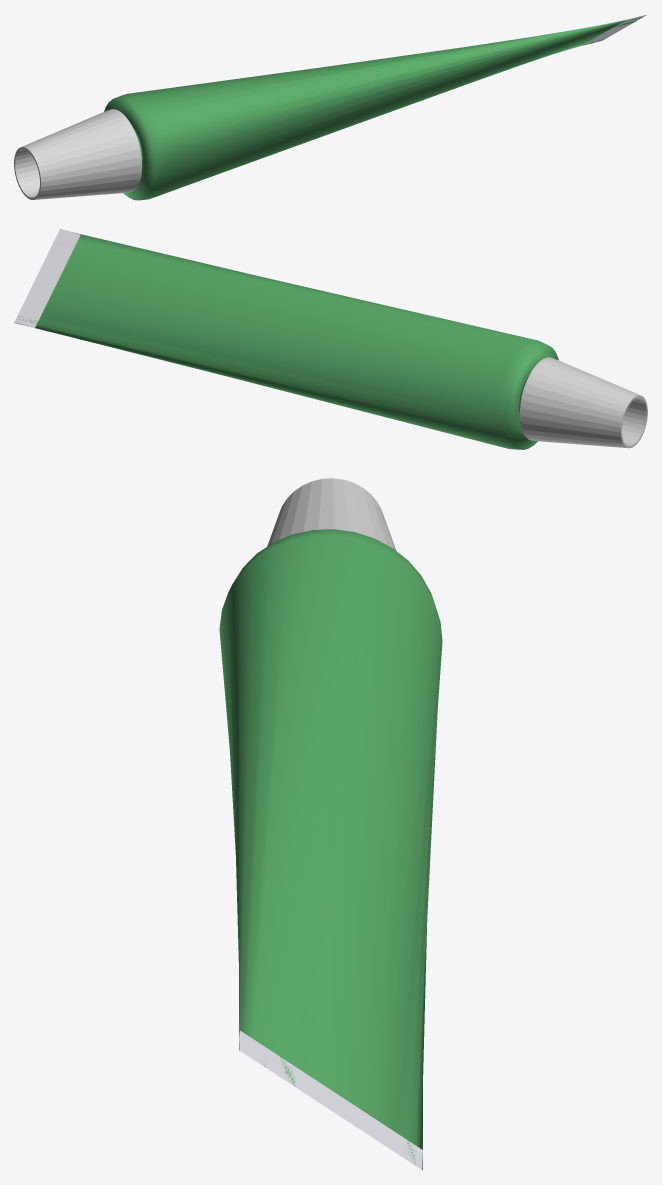
Rendered from GreenPaintTube.fbx.
3 renders of one model, top to bottom at view 1: azimuth 30°, elevation 25°; view 2: azimuth 150°, elevation 25°; view 3: azimuth 270°, elevation 25°, orthographic. The views are drawn at different scales.
Parts seen in each view (by area): view 1: Cylinder.007; view 2: Cylinder.007; view 3: Cylinder.007.
Part boxes in pixels (x1=…): Cylinder.007: x1=14, y1=15, x2=646, y2=200; Cylinder.007: x1=14, y1=229, x2=647, y2=449; Cylinder.007: x1=219, y1=478, x2=442, y2=1170.
Bounding box in the file's own units: 24.31 × 3.86 × 3.93.
